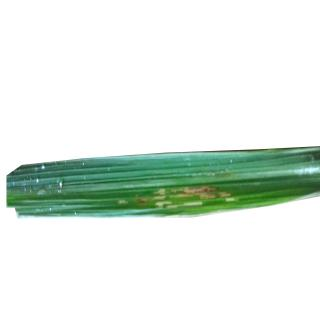Hawar-Daun: (180, 176, 222, 203), (153, 180, 170, 206)
